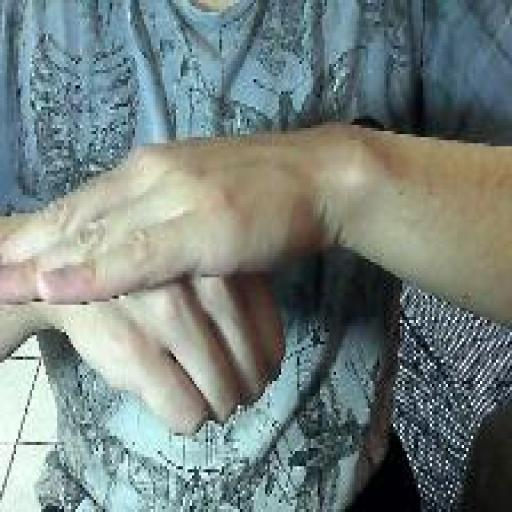Inu -dog-: (0, 126, 288, 440)
